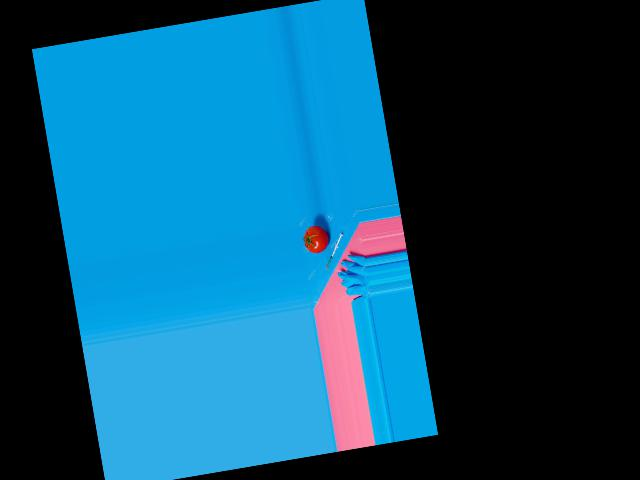tomato: (302, 224, 331, 255)
